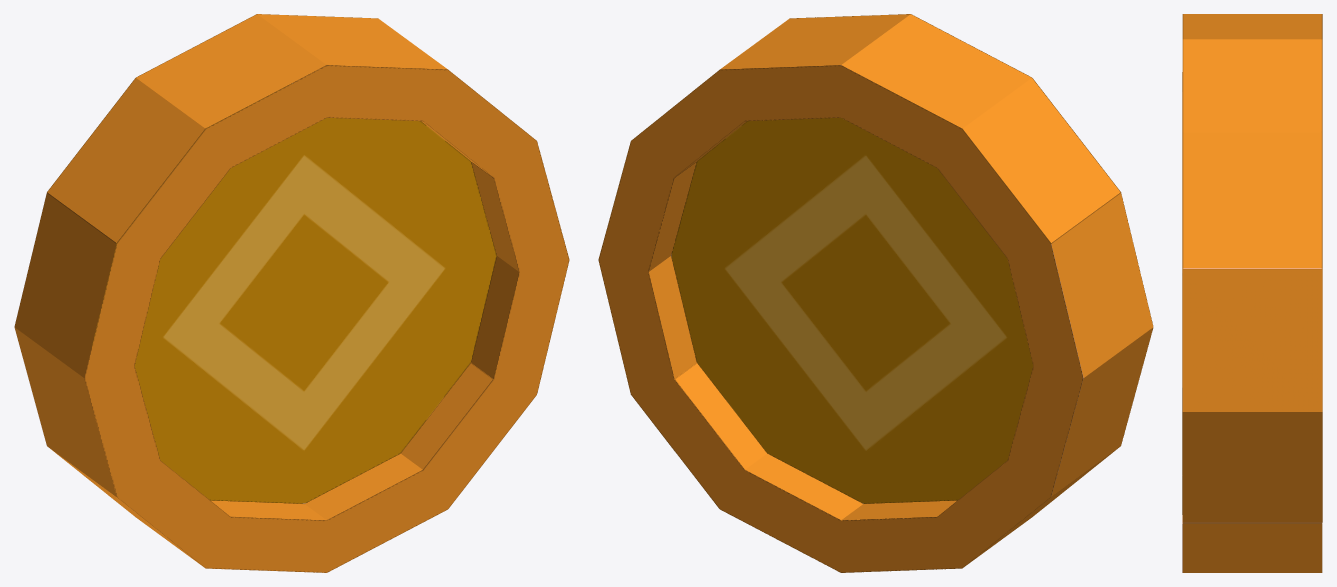
File: Coin_gold.fbx
3 renders of one model, left to right at view 1: azimuth 30°, elevation 25°; view 2: azimuth 150°, elevation 25°; view 3: azimuth 270°, elevation 25°, orthographic.
Visible parts, largest first — view 1: pCylinder1; view 2: pCylinder1; view 3: pCylinder1.
Part boxes in pixels (x1,y1,x2,y2): pCylinder1: (14,14,569,572); pCylinder1: (598,14,1153,572); pCylinder1: (1182,14,1322,572).
Size of the model in its own units: 0.02 by 0.02 by 0.005.
Materials: 2 (2 with a texture image).
